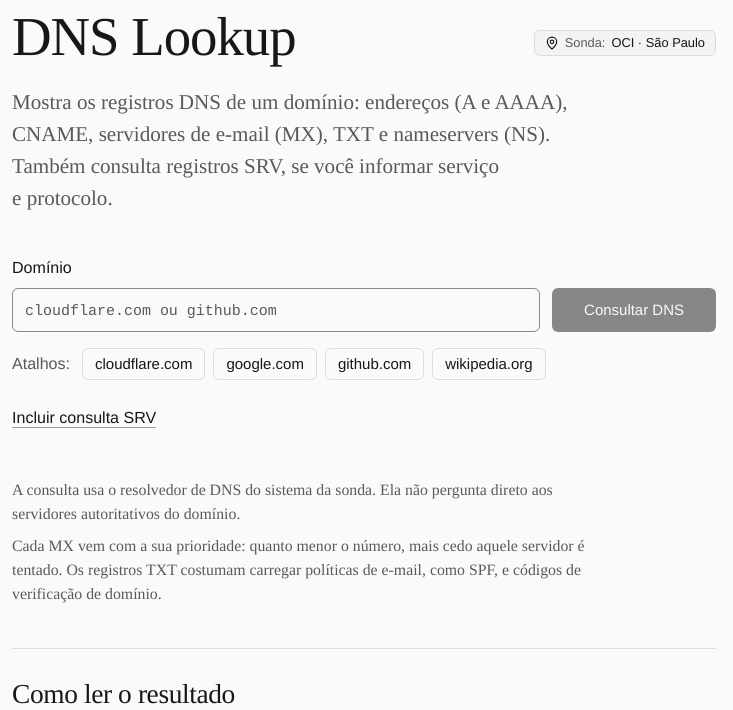
it: DnsLookup (comportamento) › sem nenhum registro aparece em vermelho
In the field: (276, 310) x1=12 y1=288 x2=540 y2=332, type "example.com"
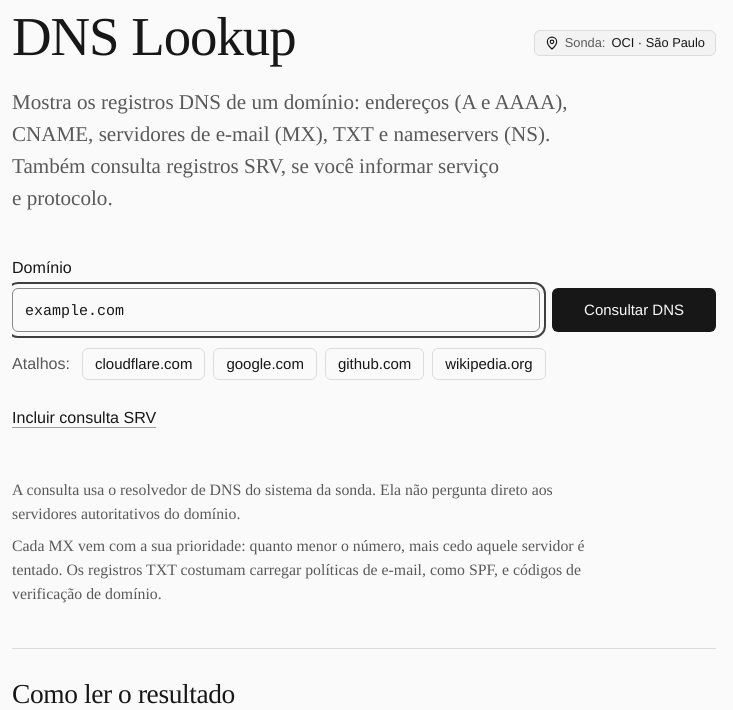
Click the button "Consultar DNS": (634, 310) x1=552 y1=288 x2=716 y2=332
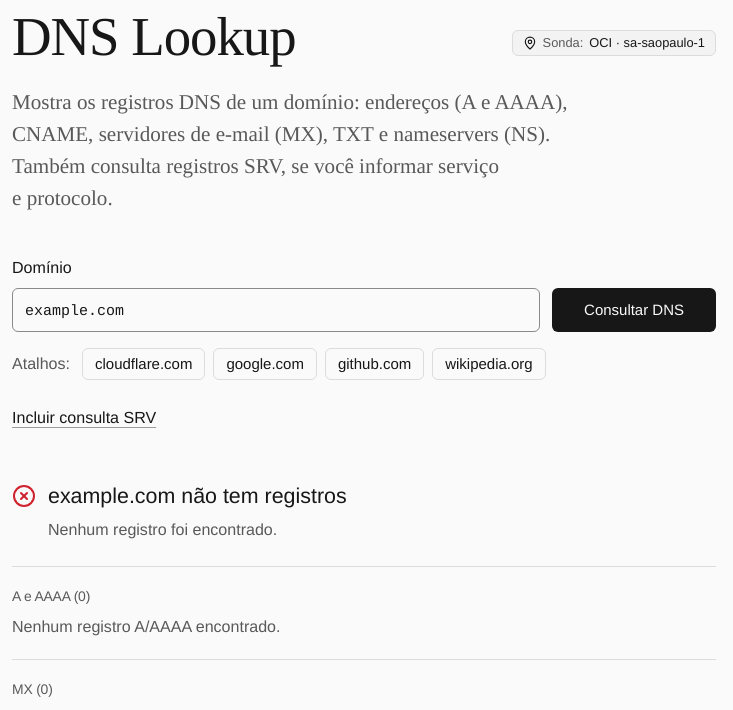
Expected: the heading "example.com não tem registros" is shown, x1=48 y1=480 x2=347 y2=512
